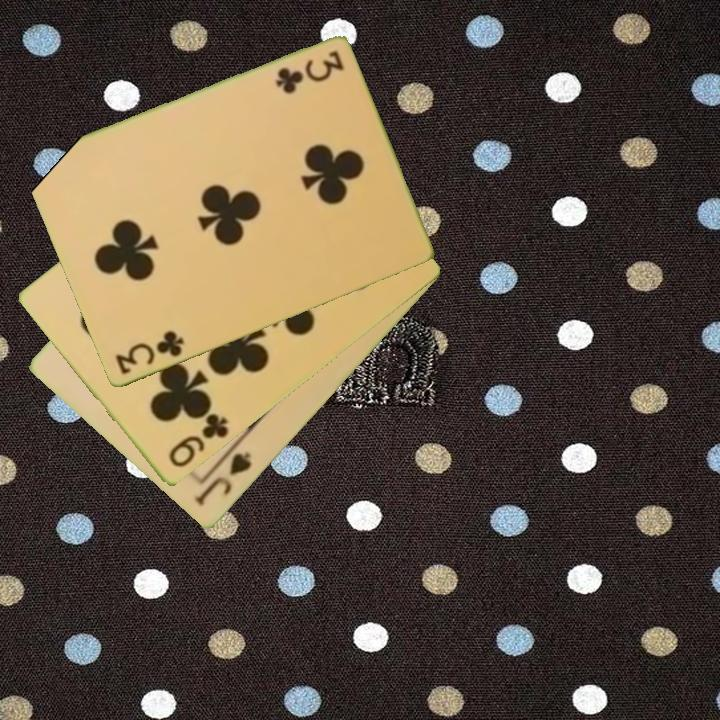3c: (111, 327, 187, 378), (272, 47, 346, 94)
9c: (165, 410, 232, 471)
Js: (191, 449, 255, 510)
